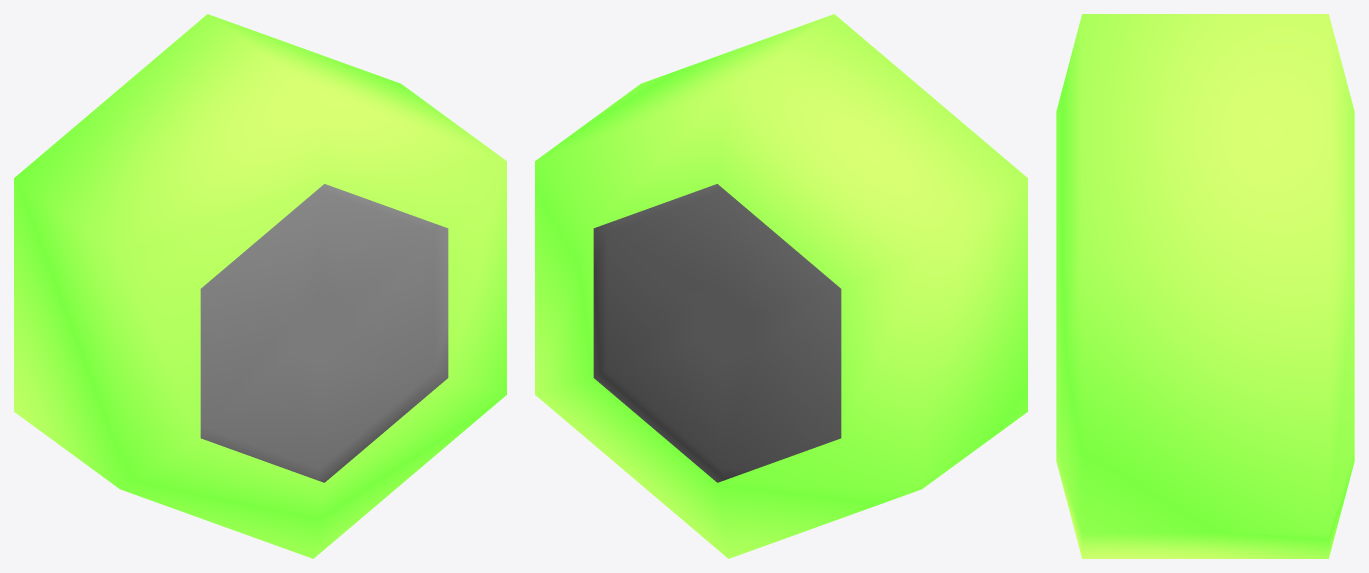
File: obj_interactive_stickywheel_lod2_pose0.fbx
The picture shows the model from 3 angles, left to right: view 1: azimuth 30°, elevation 25°; view 2: azimuth 150°, elevation 25°; view 3: azimuth 270°, elevation 25°; orthographic projection. The views are drawn at different scales.
Visible parts, largest first — view 1: goop_lod3, stickywheel_lod3; view 2: goop_lod3, stickywheel_lod3; view 3: goop_lod3.
Boxes of the visible parts, x1,y1,x2,y2 form: goop_lod3: (14,14,506,558); stickywheel_lod3: (200,184,448,482); goop_lod3: (535,14,1027,558); stickywheel_lod3: (593,184,841,482); goop_lod3: (1056,14,1354,558).
Bounding box in the file's own units: 4.95 × 5.71 × 2.84.
